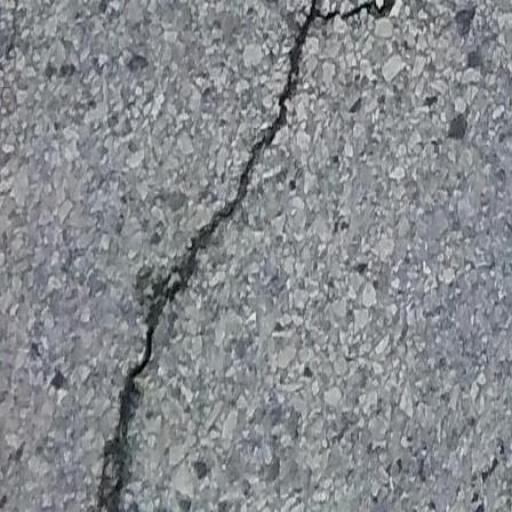spalling: (87, 2, 323, 508)
